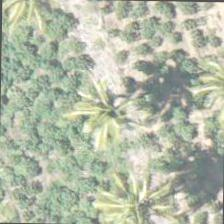Kelapa_Sawit: (60, 71, 152, 163), (93, 161, 186, 223)
